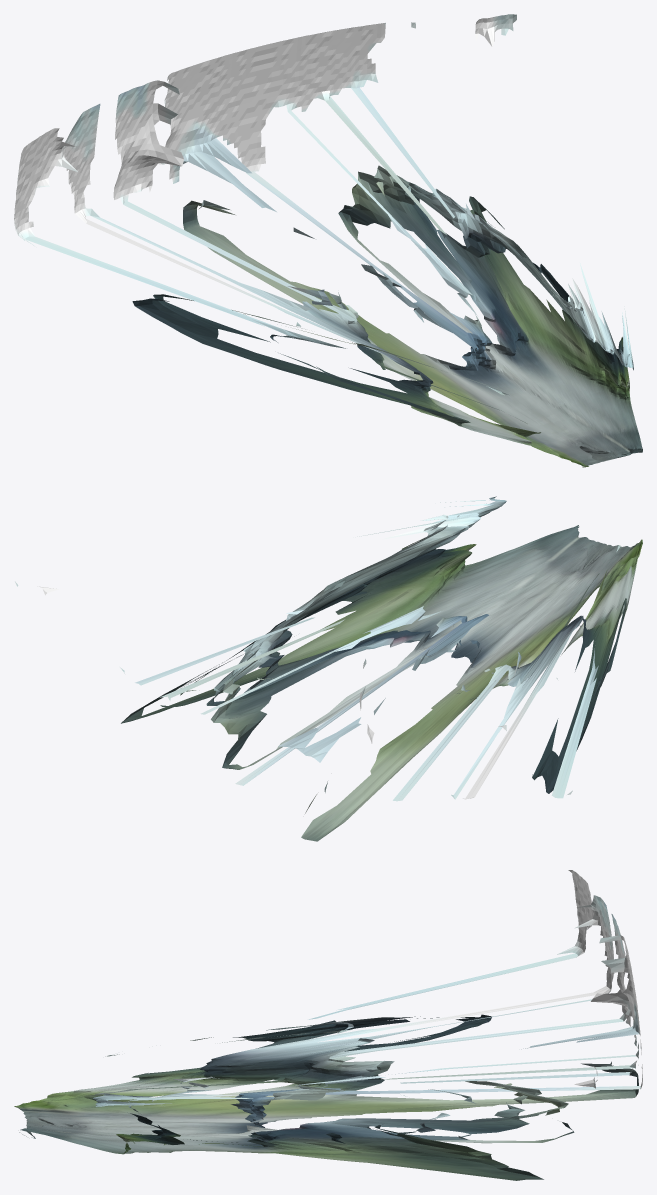
3 views of the same model, one above another, from view 1: azimuth 30°, elevation 25°; view 2: azimuth 150°, elevation 25°; view 3: azimuth 270°, elevation 25° (orthographic). The views are drawn at different scales.
Parts seen in each view (by area): view 1: defaultobject; view 2: defaultobject; view 3: defaultobject.
Part boxes in pixels (<box>): defaultobject: <box>14,14,642,467</box>; defaultobject: <box>15,496,642,841</box>; defaultobject: <box>14,870,642,1180</box>.
Bounding box in the file's own units: 37.19 × 12.38 × 45.22.
1 material, 1 textured.
